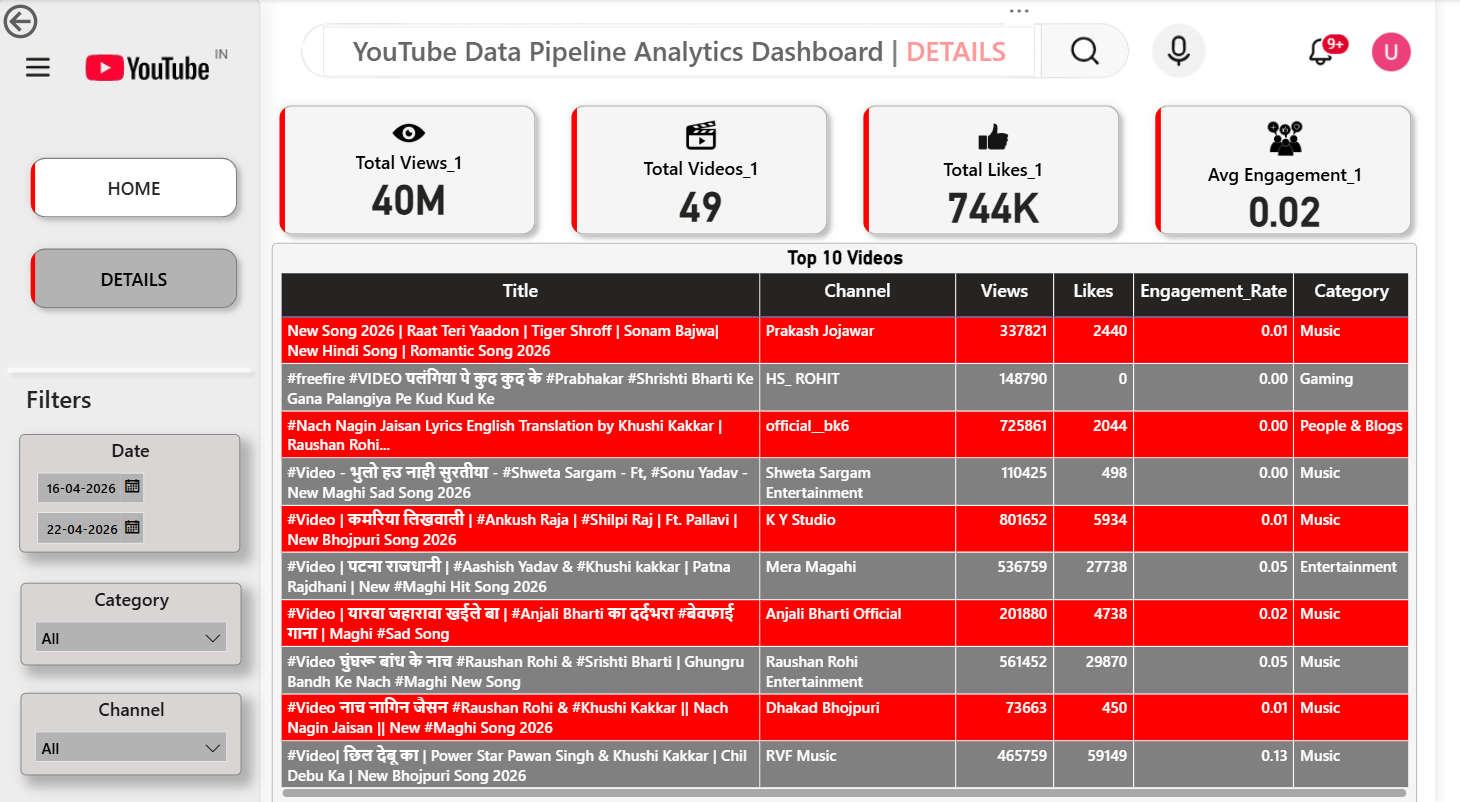

Layout of this report page (visuals, bound fields, positions):
{"tool":"powerbi","page":{"name":"DETAILS","canvas":[1280,720],"ordinal":1},"visuals":[{"type":"shape","box":[0,0,233.8,800.4],"z":0},{"type":"image","box":[10.5,15.1,223.3,90.7],"z":1000},{"type":"image","box":[233.7,0,877.9,91.9],"z":2000},{"type":"textbox","box":[289.5,24.4,634.9,44.2],"z":3000},{"type":"image","box":[1151.2,15.1,129.1,62.8],"z":4000},{"type":"slicer","title":"Date","fields":{"Values":["Query1.publish_date"]},"box":[18.6,387.2,196.5,105.8],"z":7000},{"type":"textbox","box":[19.8,336,86,43],"z":8000},{"type":"shape","box":[0,302.3,233.7,55.8],"z":9000},{"type":"actionButton","box":[0,0,100,40],"z":10000},{"type":"pageNavigator","box":[20.5,132.7,202.7,153.2],"z":11000},{"type":"cardVisual","fields":{"Data":["Query1.Total Views_1","Query1.Total Videos_1","Query1.Total Likes_1","Query1.Avg Engagement_1"]},"box":[234,78.4,1046,149.6],"z":12000},{"type":"tableEx","title":"Top 10 Videos","fields":{"Values":["Query1.title","Query1.channel","Sum(Query1.views)","Sum(Query1.likes)","Sum(Query1.engagement_rate)","Query1.category"]},"box":[243.8,217.5,1020,502.5],"z":13000},{"type":"slicer","title":"Category","fields":{"Values":["Query1.category"]},"box":[19.8,519.8,196.5,73.3],"z":13001},{"type":"slicer","title":"Channel","fields":{"Values":["Query1.channel"]},"box":[19.8,617.4,196.5,73.3],"z":13002}]}

Visuals, with their boxes on the page's 1280x720 design canvas (x1, y1, x2, y2). These are canvas units, not pixel positions in the 1460x802 screenshot, which may show the page scaled, cropped or inside an application window:
shape: box(0, 0, 234, 800)
image: box(10, 15, 234, 106)
image: box(234, 0, 1112, 92)
textbox: box(290, 24, 924, 69)
image: box(1151, 15, 1280, 78)
"Date" slicer: box(19, 387, 215, 493)
textbox: box(20, 336, 106, 379)
shape: box(0, 302, 234, 358)
actionButton: box(0, 0, 100, 40)
pageNavigator: box(20, 133, 223, 286)
cardVisual - Query1.Total Views_1 x Query1.Total Videos_1: box(234, 78, 1280, 228)
"Top 10 Videos" tableEx: box(244, 218, 1264, 720)
"Category" slicer: box(20, 520, 216, 593)
"Channel" slicer: box(20, 617, 216, 691)
